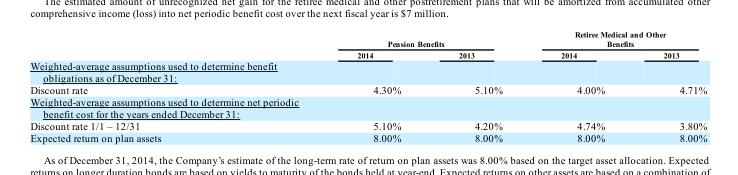table: (29, 29, 706, 143)
table column: (29, 29, 258, 143), (258, 29, 429, 143), (429, 29, 531, 143), (531, 29, 633, 143), (633, 29, 706, 143)
table column header: (29, 29, 706, 59)
table projected row header: (29, 59, 706, 83), (29, 95, 706, 119)
table row: (29, 59, 706, 83), (29, 95, 706, 119), (29, 29, 706, 49), (29, 83, 706, 95), (29, 119, 706, 131), (29, 131, 706, 143), (29, 49, 706, 59)
table spanning cell: (258, 29, 531, 49), (531, 29, 706, 49)
